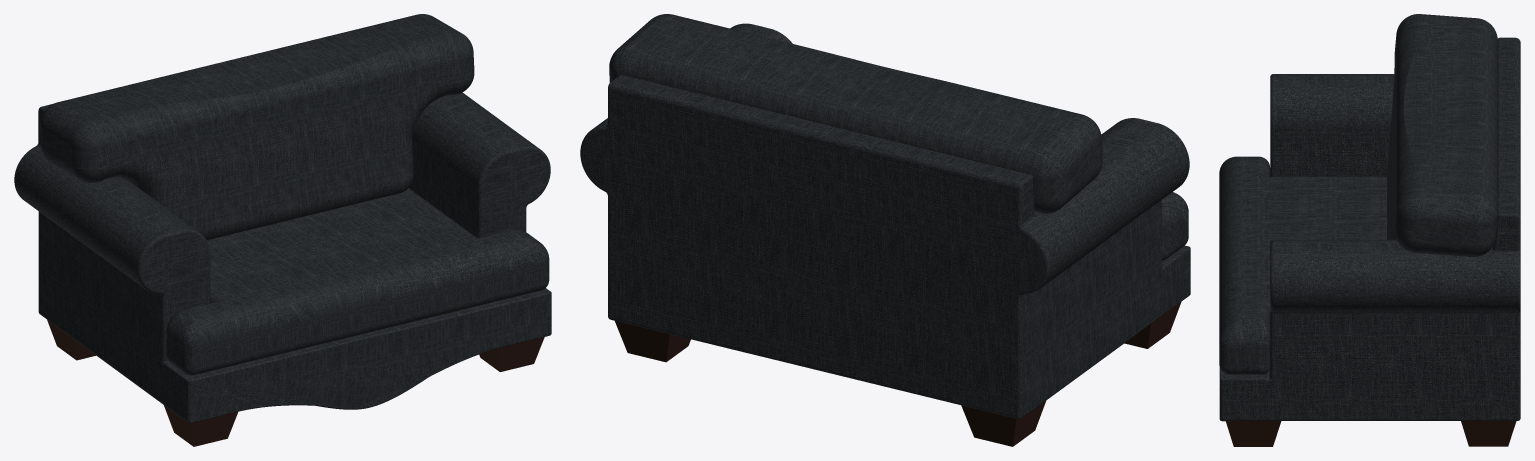
Rendered from couch2.glb.
The picture shows the model from 3 angles, left to right: view 1: azimuth 30°, elevation 25°; view 2: azimuth 150°, elevation 25°; view 3: azimuth 270°, elevation 25°; orthographic projection. The views are drawn at different scales.
Visible parts, largest first — view 1: CouchBase, BackCushion, BottomCushion, Legs; view 2: CouchBase, BackCushion, Legs, BottomCushion; view 3: CouchBase, BackCushion, BottomCushion, Legs.
Part boxes in pixels (box(x1,y1,x2,y2)): CouchBase: box(14, 92, 551, 423); BackCushion: box(40, 14, 474, 239); BottomCushion: box(166, 188, 549, 375); Legs: box(47, 320, 544, 446); CouchBase: box(580, 23, 1190, 419); BackCushion: box(609, 14, 1102, 213); Legs: box(615, 301, 1181, 446); BottomCushion: box(1162, 192, 1188, 260); CouchBase: box(1219, 37, 1520, 421); BackCushion: box(1387, 14, 1497, 257); BottomCushion: box(1219, 156, 1386, 374); Legs: box(1226, 421, 1516, 446).
Bounding box in the file's own units: 4.25 × 2.57 × 2.69.
2 materials, 1 textured.
